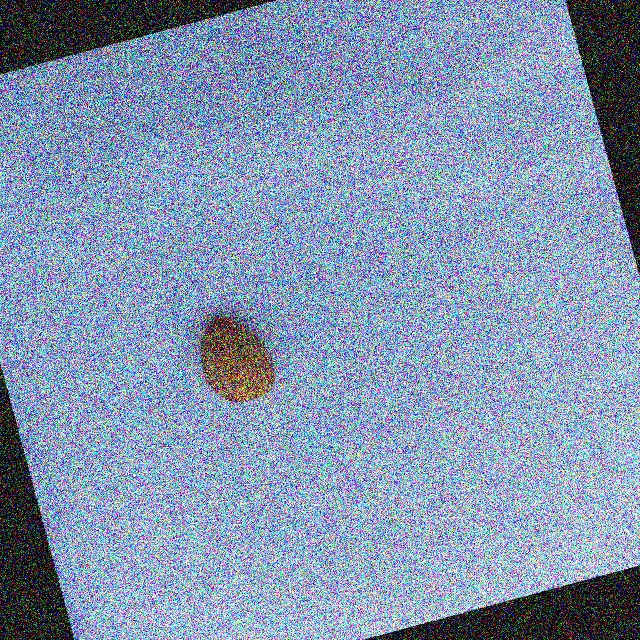grade2: (186, 301, 289, 414)
